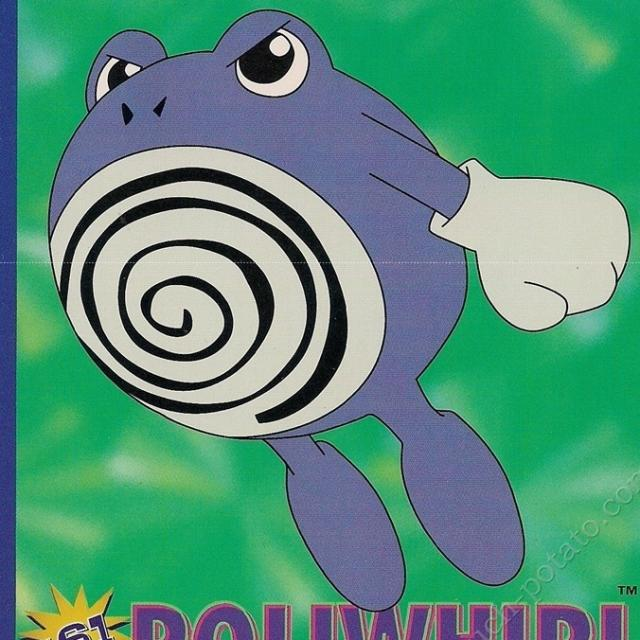Poliwhirl: (55, 0, 532, 442)
